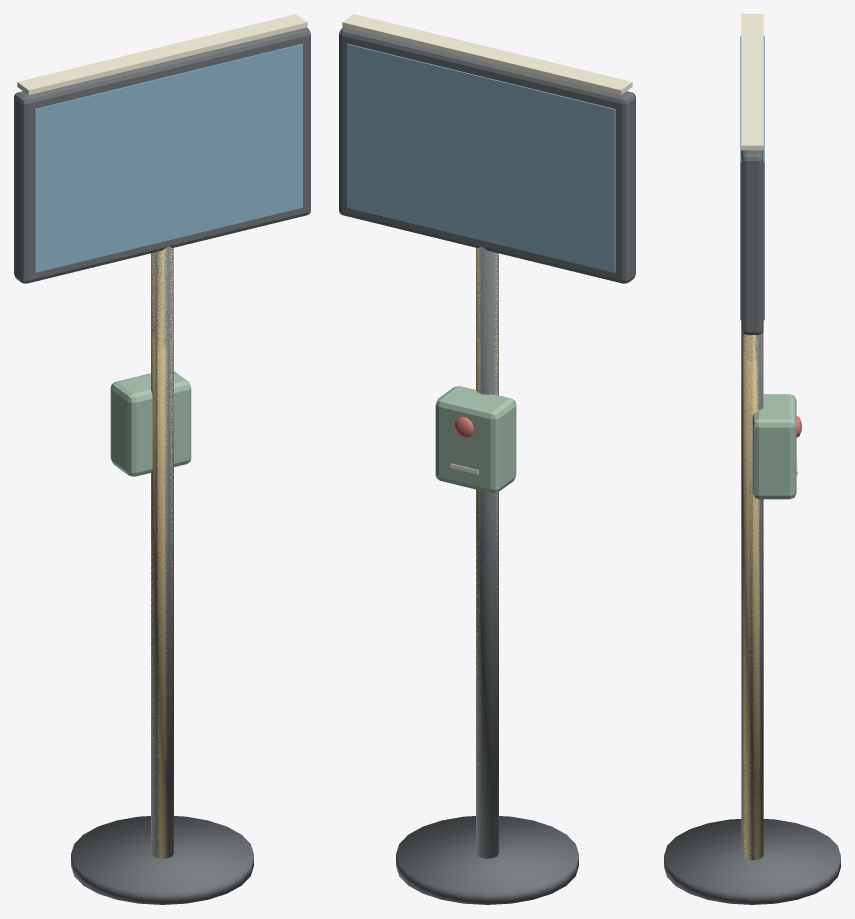
The model's file is Gear20.fbx.
3 views of the same model, side by side, from view 1: azimuth 30°, elevation 25°; view 2: azimuth 150°, elevation 25°; view 3: azimuth 270°, elevation 25° (orthographic). The views are drawn at different scales.
Visible parts, largest first — view 1: Gear20_V10_ScreenUI, Gear20_V1_Charcoal, Gear20_V10_Charcoal, Gear20_V10_Brass, Gear20_V9_ScreenUI, Gear20_V7_ScreenUI, Gear20_V10_Sage, Gear20_V5_ScreenUI, Gear20_V10_LampLight, Gear20_V8_ScreenUI, Gear20_V3_ScreenUI, Gear20_V9_Charcoal (+3 smaller); view 2: Gear20_V10_ScreenUI, Gear20_V1_Charcoal, Gear20_V1_ScreenUI, Gear20_V9_ScreenUI, Gear20_V10_Charcoal, Gear20_V3_ScreenUI, Gear20_V7_ScreenUI, Gear20_V10_Sage, Gear20_V10_LampLight, Gear20_V4_ScreenUI, Gear20_V2_ScreenUI, Gear20_V5_ScreenUI (+3 smaller); view 3: Gear20_V1_Charcoal, Gear20_V10_Brass, Gear20_V10_Sage, Gear20_V10_Charcoal, Gear20_V10_LampLight, Gear20_V10_ScreenUI.
Part boxes in pixels (x1,y1,x2,y2): Gear20_V10_ScreenUI: (34, 44, 302, 272); Gear20_V1_Charcoal: (71, 246, 253, 904); Gear20_V10_Charcoal: (14, 27, 310, 283); Gear20_V10_Brass: (151, 247, 173, 858); Gear20_V9_ScreenUI: (38, 65, 299, 270); Gear20_V7_ScreenUI: (43, 51, 294, 265); Gear20_V10_Sage: (110, 371, 191, 476); Gear20_V5_ScreenUI: (49, 56, 289, 260); Gear20_V10_LampLight: (17, 14, 307, 95); Gear20_V8_ScreenUI: (40, 49, 297, 261); Gear20_V3_ScreenUI: (69, 96, 255, 243); Gear20_V9_Charcoal: (31, 38, 305, 277); Gear20_V10_ScreenUI: (347, 44, 615, 272); Gear20_V1_Charcoal: (396, 246, 578, 904); Gear20_V1_ScreenUI: (386, 77, 575, 238); Gear20_V9_ScreenUI: (350, 47, 611, 270); Gear20_V10_Charcoal: (339, 27, 635, 283); Gear20_V3_ScreenUI: (381, 73, 580, 243); Gear20_V7_ScreenUI: (355, 52, 606, 265); Gear20_V10_Sage: (435, 386, 516, 493); Gear20_V10_LampLight: (342, 14, 632, 95); Gear20_V4_ScreenUI: (379, 71, 582, 245); Gear20_V2_ScreenUI: (383, 77, 577, 240); Gear20_V5_ScreenUI: (360, 57, 600, 256); Gear20_V1_Charcoal: (664, 330, 840, 904); Gear20_V10_Brass: (743, 330, 763, 859); Gear20_V10_Sage: (752, 394, 796, 499); Gear20_V10_Charcoal: (741, 150, 763, 334); Gear20_V10_LampLight: (741, 14, 763, 150); Gear20_V10_ScreenUI: (740, 36, 764, 320).
Size of the model in its own units: 73.26 by 197 by 40.
